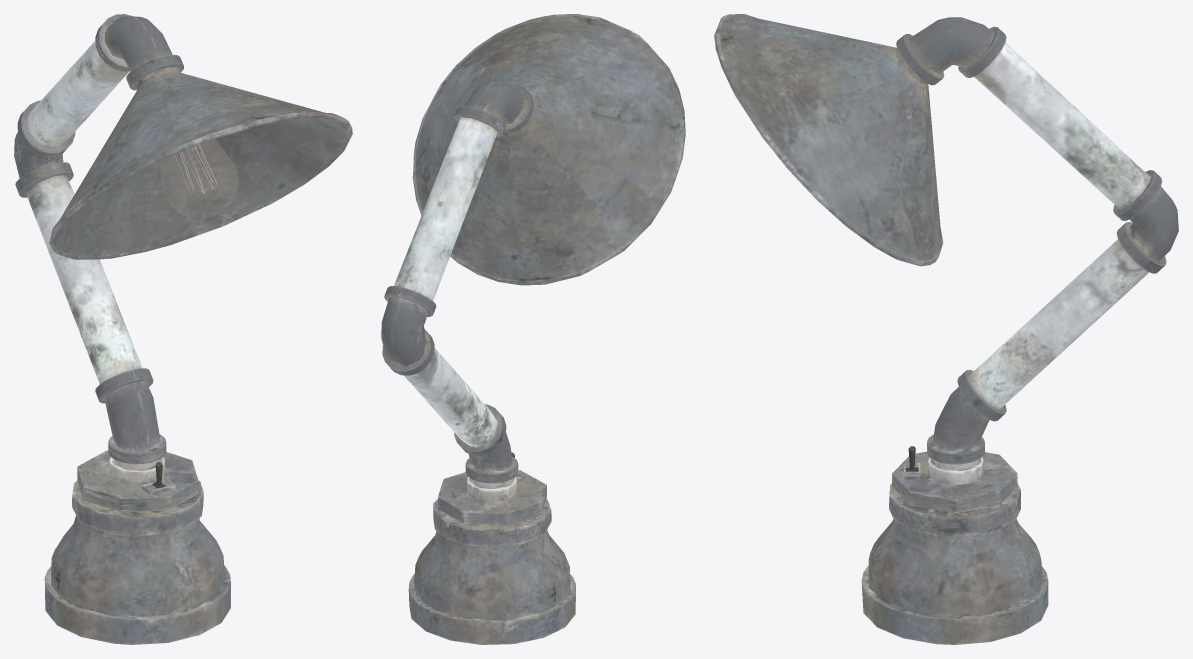
File: industrial_pipe_lamp.glb
The picture shows the model from 3 angles, left to right: view 1: azimuth 30°, elevation 25°; view 2: azimuth 150°, elevation 25°; view 3: azimuth 270°, elevation 25°; orthographic projection. The views are drawn at different scales.
Parts seen in each view (by area): view 1: industrial_pipe_lamp, industrial_pipe_lamp_bulb; view 2: industrial_pipe_lamp; view 3: industrial_pipe_lamp.
Boxes of the visible parts, bbox=[...] form: industrial_pipe_lamp: bbox=[14, 14, 352, 644]; industrial_pipe_lamp_bulb: bbox=[160, 139, 238, 217]; industrial_pipe_lamp: bbox=[381, 14, 685, 644]; industrial_pipe_lamp: bbox=[714, 14, 1178, 644].
Bounding box in the file's own units: 0.1826 × 0.3641 × 0.2617.
2 materials, 2 textured.
